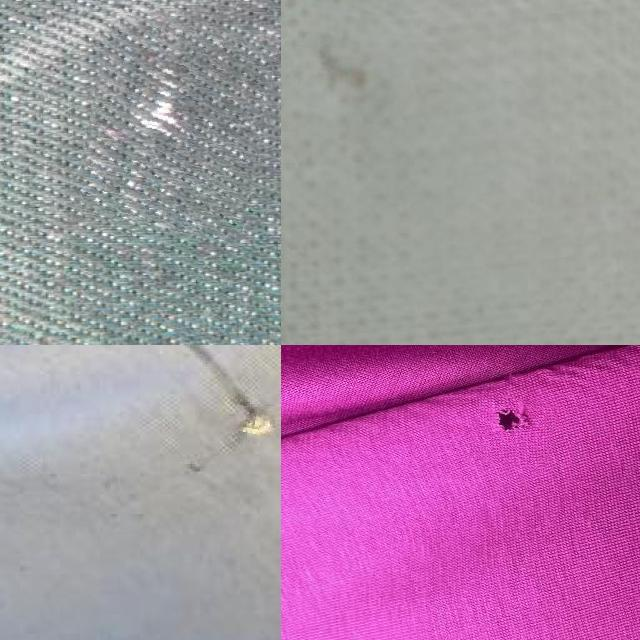Thread_other: (80, 18, 269, 238)
seam: (285, 2, 417, 145), (471, 394, 556, 468), (233, 405, 281, 442)
